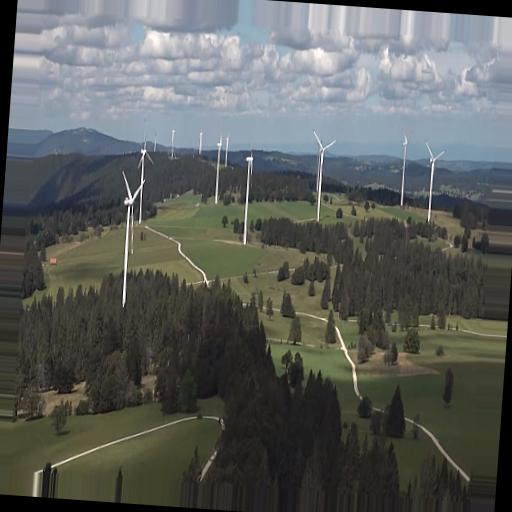wind turbine: (119, 171, 148, 307), (312, 130, 337, 223), (423, 140, 447, 223), (134, 131, 152, 224)
